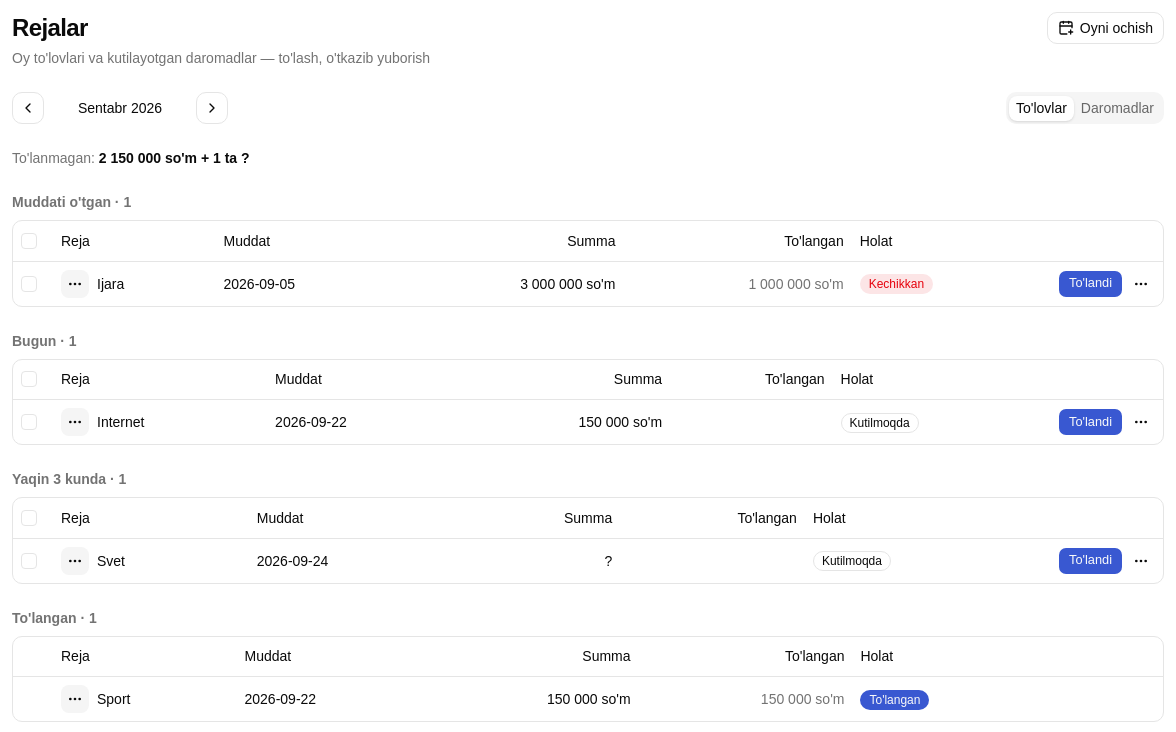
it: PlansPage (E23-T04) › bo‘limlar holat bo‘yicha, jami `X + N ta ?` (BR-076); daromadlar alohida tabda
The width and height of the screenshot is (1176, 732).
Expected: the element "Muddati o'tgan · 1" shows "Ijara", [97,276,124,292]
Expected: the element "Bugun" shows "Internet", [97,414,144,430]
Step 1. Click the tab "Daromadlar" → coordinates (1117, 108), box [1074,96,1161,120]
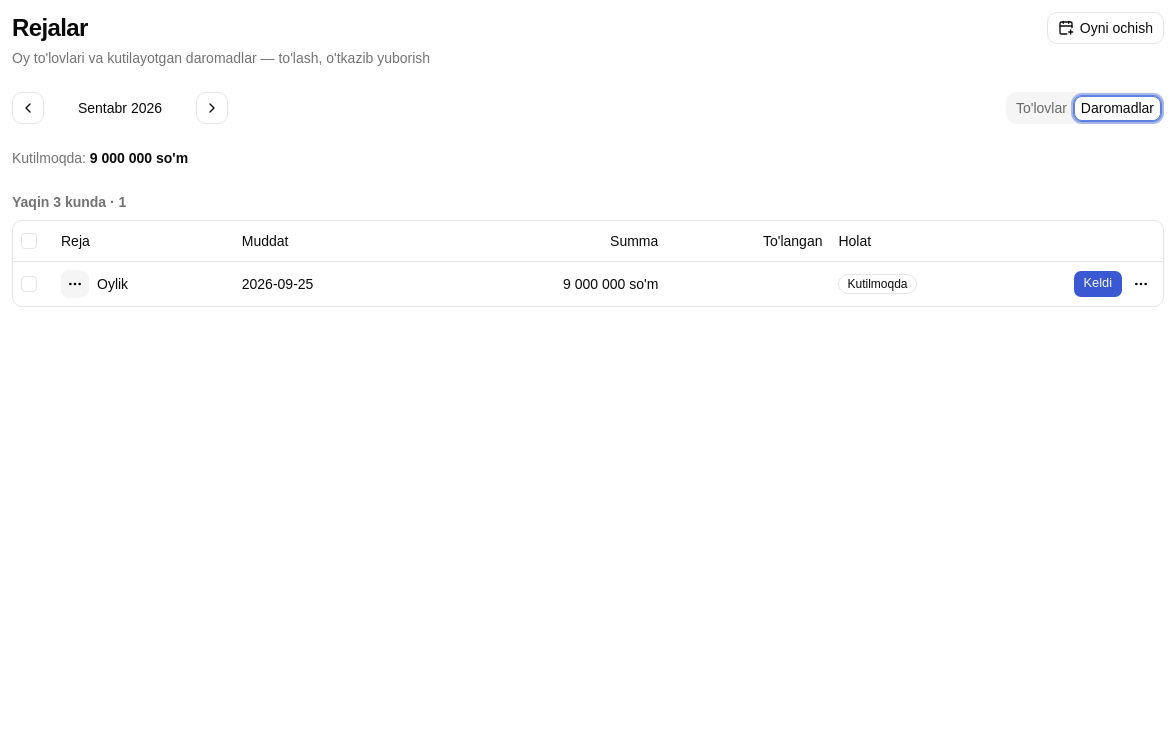
Result: the button "Keldi" is shown at [1072,270,1123,298]
Result: the text "Oylik" is shown at [97,274,128,294]
